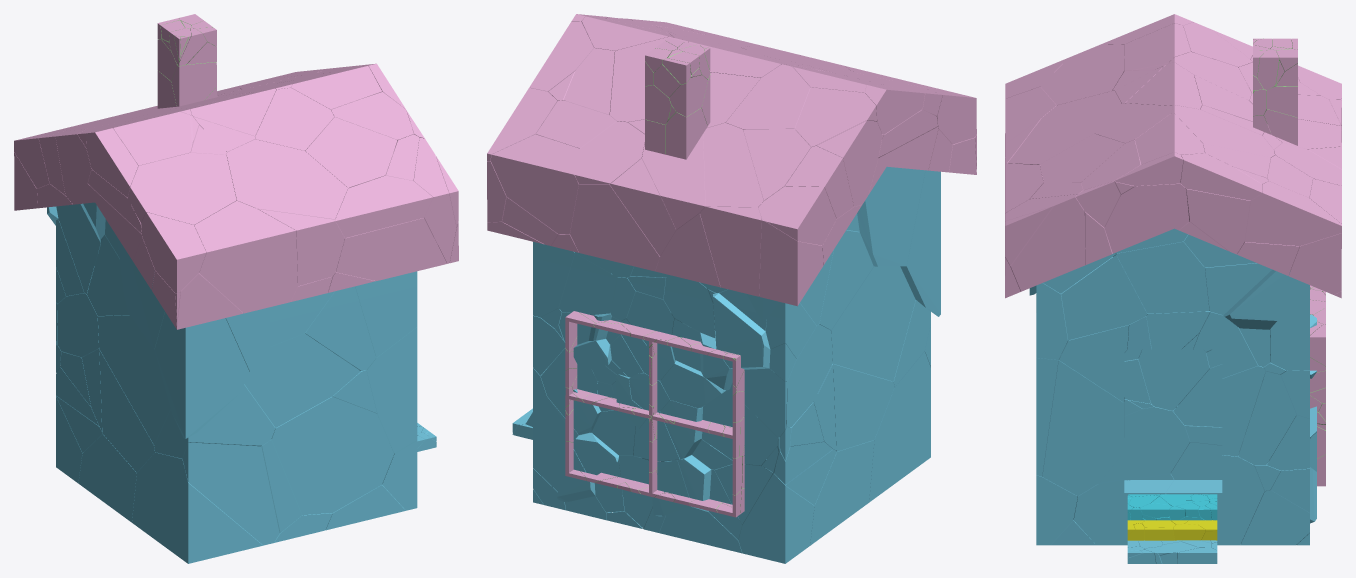
File: Homehakai.fbx
3 views of the same model, side by side, from view 1: azimuth 30°, elevation 25°; view 2: azimuth 150°, elevation 25°; view 3: azimuth 270°, elevation 25° (orthographic). The views are drawn at different scales.
Parts seen in each view (by area): view 1: Cube_cell.171, Cube.001_cell.041, Cube_cell.114, Cube_cell.054, Cube.001_cell.070, Cube_cell.160, Cube_cell.096, Cube.001_cell.083, Cube_cell.108, Cube.001_cell.007, Cube_cell.106, Cube.001_cell.045 (+48 smaller); view 2: Cube_cell.108, Cube.001_cell.036, Cube_cell.114, Cube.001_cell.067, Cube_cell.086, Cube_cell.143, Cube.001_cell.073, Cube.001_cell.022, Cube.001_cell.035, Cube_cell.058, Cube_cell.054, Cube_cell.116 (+82 smaller); view 3: Cube_cell.033, Cube_cell.153, Cube.001_cell.039, Cube_cell.147, Cube_cell.053, Cube_cell.071, Cube_cell.020, Cube.001_cell.066, Cube.001_cell.012, Cube.001_cell.070, Cube_cell.063, Cube.001_cell.083 (+63 smaller).
Part boxes in pixels (x1=…): Cube_cell.171: x1=271, y1=396, x2=394, y2=515; Cube.001_cell.041: x1=194, y1=200, x2=297, y2=313; Cube_cell.114: x1=132, y1=452, x2=263, y2=563; Cube_cell.054: x1=154, y1=312, x2=249, y2=438; Cube.001_cell.070: x1=226, y1=139, x2=347, y2=219; Cube_cell.160: x1=182, y1=442, x2=279, y2=545; Cube_cell.096: x1=244, y1=333, x2=360, y2=427; Cube.001_cell.083: x1=128, y1=153, x2=236, y2=224; Cube_cell.108: x1=97, y1=315, x2=170, y2=444; Cube.001_cell.007: x1=336, y1=218, x2=446, y2=280; Cube_cell.106: x1=366, y1=327, x2=417, y2=453; Cube.001_cell.045: x1=335, y1=175, x2=432, y2=237; Cube_cell.108: x1=831, y1=266, x2=915, y2=381; Cube.001_cell.036: x1=491, y1=134, x2=579, y2=234; Cube_cell.114: x1=869, y1=351, x2=930, y2=502; Cube.001_cell.067: x1=570, y1=184, x2=659, y2=271; Cube_cell.086: x1=857, y1=166, x2=925, y2=266; Cube_cell.143: x1=738, y1=459, x2=814, y2=563; Cube.001_cell.073: x1=700, y1=206, x2=761, y2=296; Cube.001_cell.022: x1=703, y1=123, x2=763, y2=207; Cube.001_cell.035: x1=759, y1=219, x2=823, y2=306; Cube_cell.058: x1=833, y1=364, x2=894, y2=451; Cube_cell.054: x1=900, y1=170, x2=940, y2=316; Cube_cell.116: x1=810, y1=440, x2=874, y2=545; Cube_cell.033: x1=1042, y1=360, x2=1124, y2=495; Cube_cell.153: x1=1166, y1=442, x2=1264, y2=545; Cube.001_cell.039: x1=1005, y1=194, x2=1085, y2=291; Cube_cell.147: x1=1116, y1=234, x2=1209, y2=313; Cube_cell.053: x1=1174, y1=364, x2=1265, y2=456; Cube_cell.071: x1=1061, y1=255, x2=1147, y2=340; Cube_cell.020: x1=1098, y1=406, x2=1190, y2=483; Cube.001_cell.066: x1=1245, y1=181, x2=1341, y2=246; Cube.001_cell.012: x1=1104, y1=183, x2=1189, y2=253; Cube.001_cell.070: x1=1008, y1=91, x2=1121, y2=164; Cube_cell.063: x1=1073, y1=473, x2=1173, y2=545; Cube.001_cell.083: x1=1040, y1=44, x2=1124, y2=105.
Size of the model in its own units: 278 by 355 by 246.
